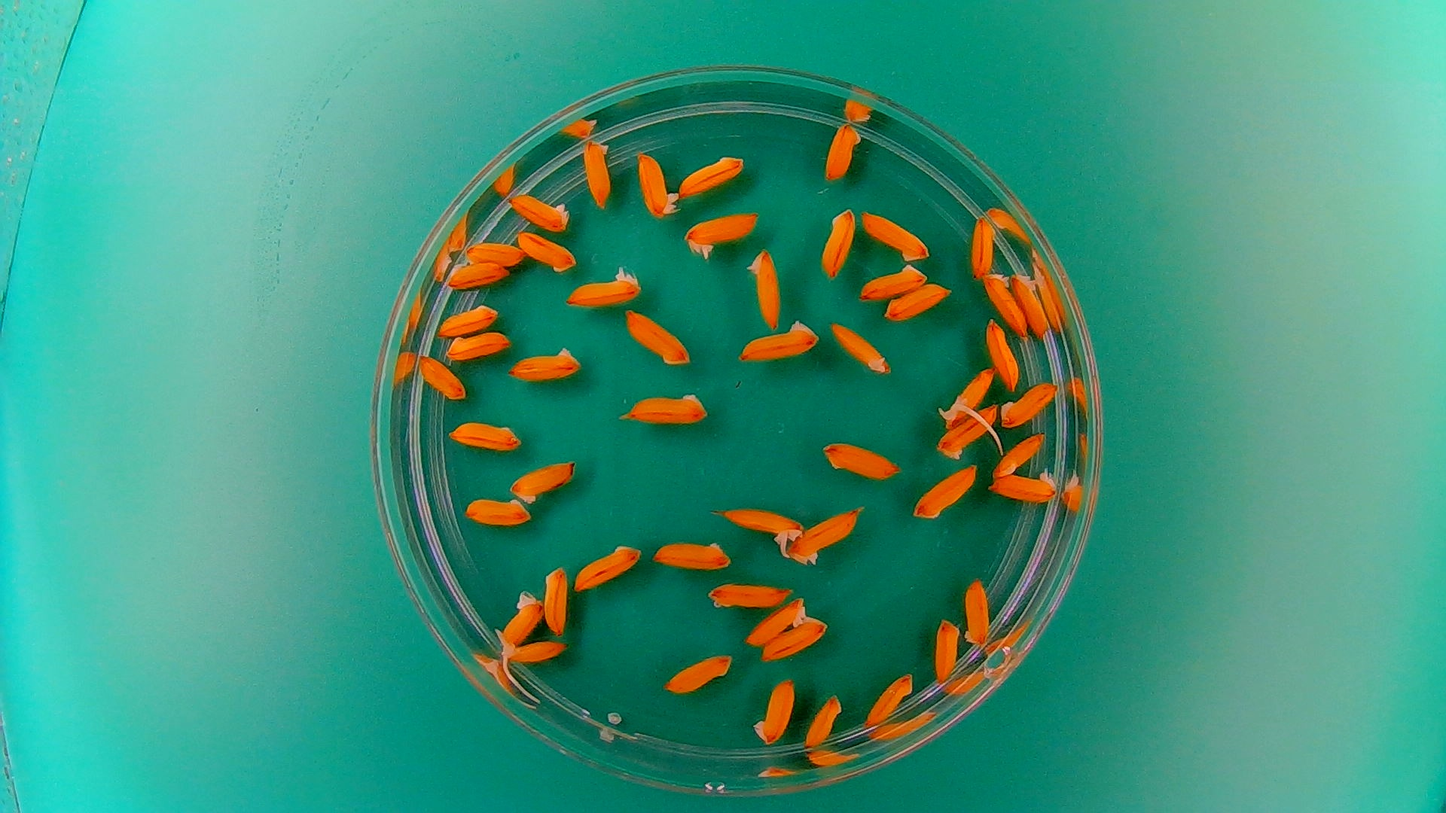no: (786, 504, 865, 566), (909, 462, 979, 522), (623, 307, 692, 367), (733, 317, 821, 364), (619, 385, 712, 428), (571, 539, 645, 593), (825, 318, 893, 376), (859, 207, 932, 261), (819, 438, 904, 482), (937, 401, 999, 461), (759, 612, 831, 662), (660, 650, 737, 696), (743, 594, 809, 647), (676, 151, 748, 199), (861, 668, 917, 729), (507, 456, 578, 504), (635, 146, 680, 219), (752, 674, 797, 746), (744, 245, 782, 330), (505, 342, 585, 382), (981, 268, 1027, 337), (998, 379, 1058, 429), (650, 536, 734, 571), (496, 589, 545, 649), (818, 204, 857, 279), (514, 227, 577, 273), (883, 280, 953, 321), (984, 314, 1021, 391), (989, 430, 1047, 479), (506, 188, 572, 231), (445, 416, 523, 452), (858, 260, 927, 300), (459, 493, 534, 528), (822, 119, 864, 181), (416, 352, 467, 402), (802, 690, 844, 749), (581, 136, 614, 208), (444, 328, 513, 361), (443, 256, 508, 291), (962, 574, 992, 649), (437, 301, 501, 336), (541, 562, 570, 638), (932, 614, 962, 684), (969, 213, 997, 279), (462, 238, 526, 266)
yes: (710, 500, 805, 550), (682, 207, 762, 258), (561, 261, 645, 309), (937, 363, 994, 427), (987, 466, 1061, 503), (1011, 268, 1049, 338), (496, 637, 570, 667)
